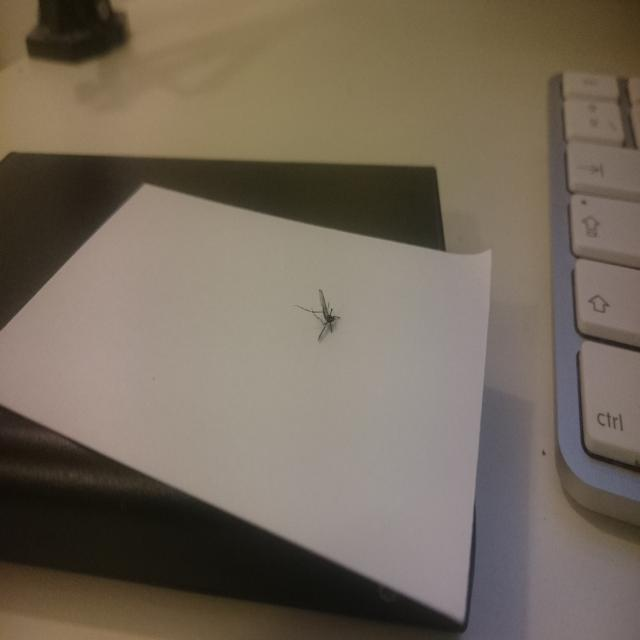albopictus: (294, 285, 346, 345)
